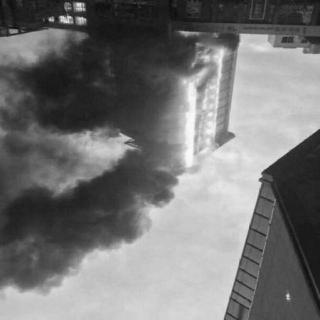Fire: (182, 60, 220, 169)
